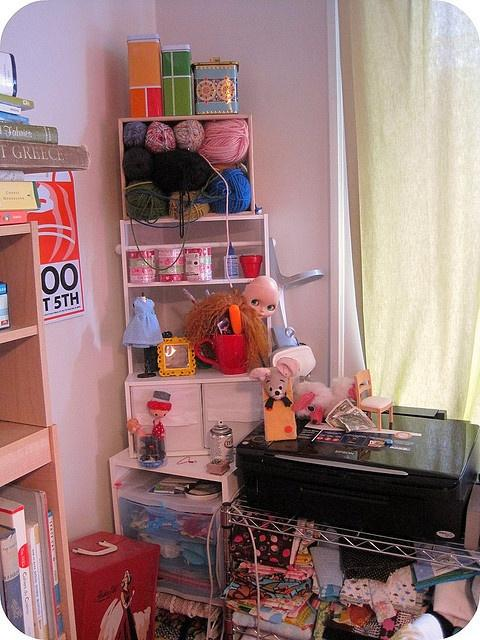Printer: (236, 402, 479, 542)
